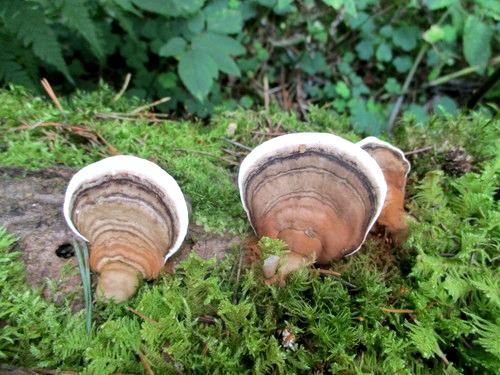Ganoderma - Fruit Body: (234, 132, 408, 272), (64, 154, 194, 304)
